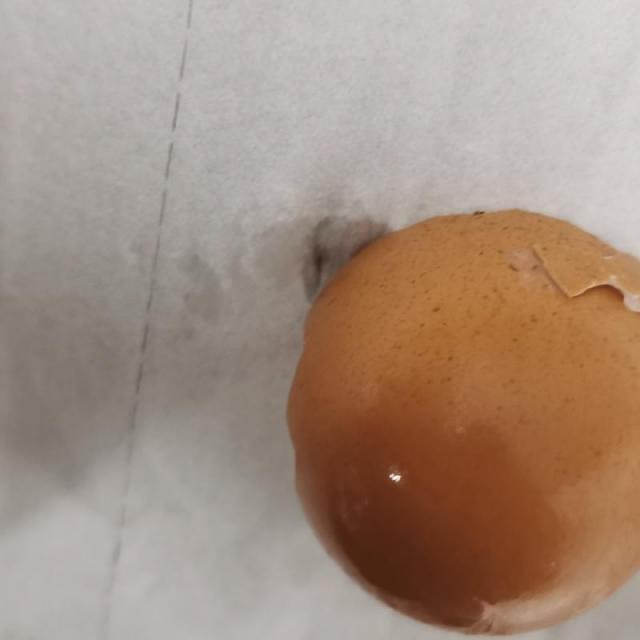egg shell: (286, 212, 640, 638)
